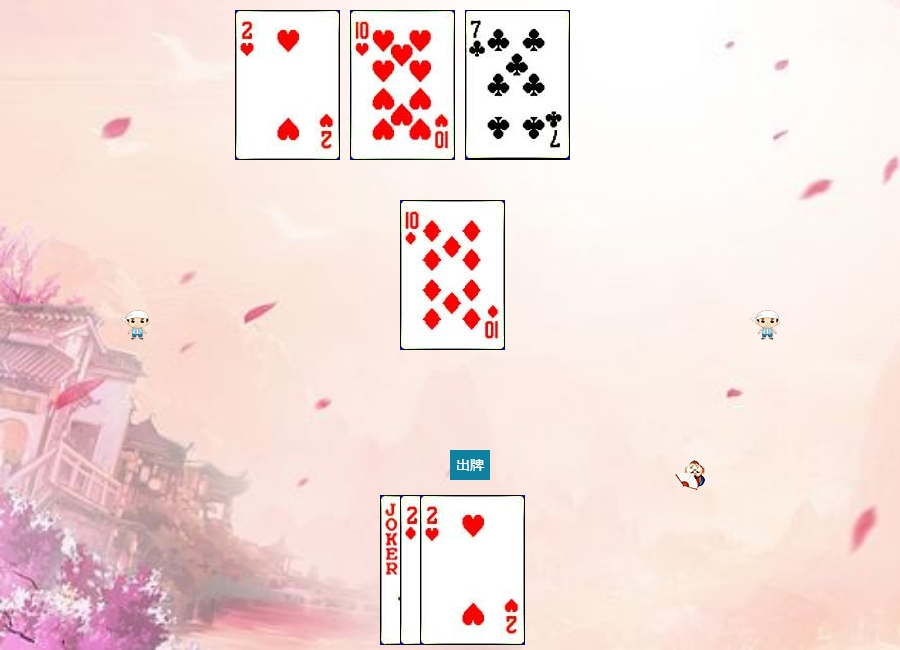10~1: (400, 200, 505, 350)
10~3: (350, 10, 455, 160)
15~1: (400, 495, 505, 645)
15~3: (235, 10, 340, 160), (420, 495, 525, 645)
18~4: (380, 495, 485, 645)
7~2: (465, 10, 570, 160)
